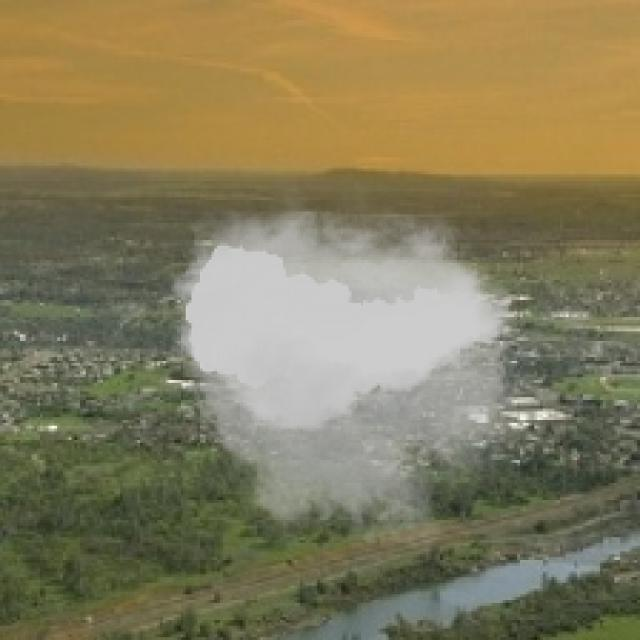Smoke: (160, 180, 534, 569)
